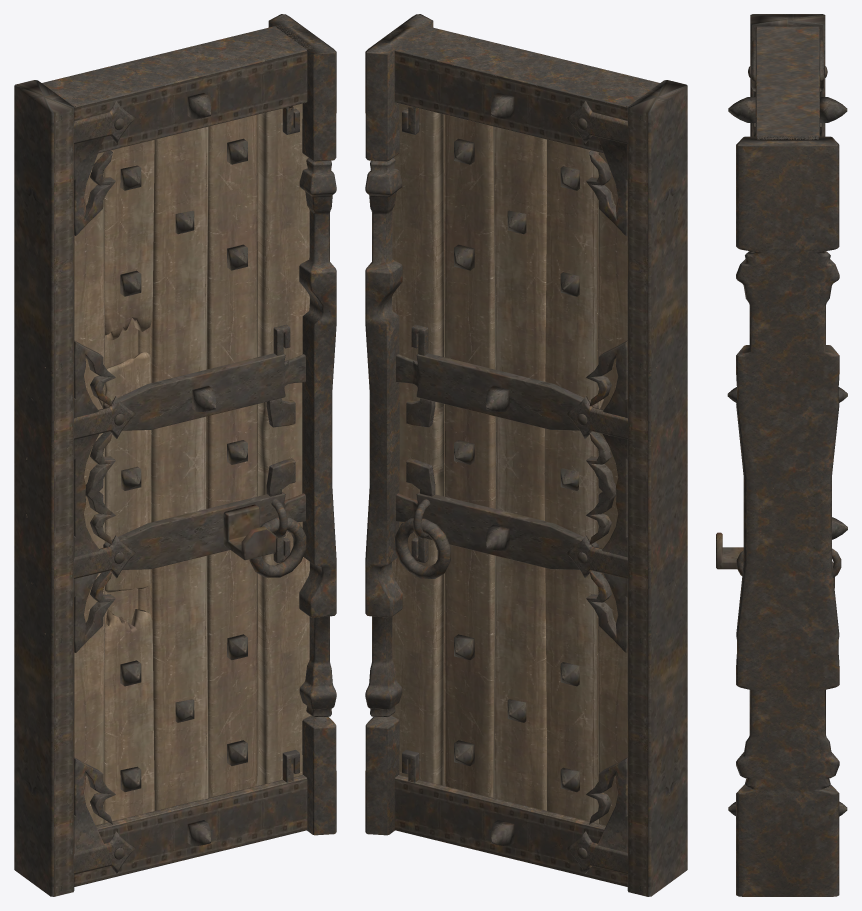
3 views of the same model, side by side, from view 1: azimuth 30°, elevation 25°; view 2: azimuth 150°, elevation 25°; view 3: azimuth 270°, elevation 25° (orthographic). The views are drawn at different scales.
Visible parts, largest first — view 1: SM_DR_Door_R_01_LOD0; view 2: SM_DR_Door_R_01_LOD0; view 3: SM_DR_Door_R_01_LOD0.
Part boxes in pixels (bbox=[...]): SM_DR_Door_R_01_LOD0: bbox=[14, 14, 336, 896]; SM_DR_Door_R_01_LOD0: bbox=[365, 14, 687, 896]; SM_DR_Door_R_01_LOD0: bbox=[716, 14, 847, 896].
Bounding box in the file's own units: 1.51 × 4.04 × 0.6407.
3 materials, 3 textured.
